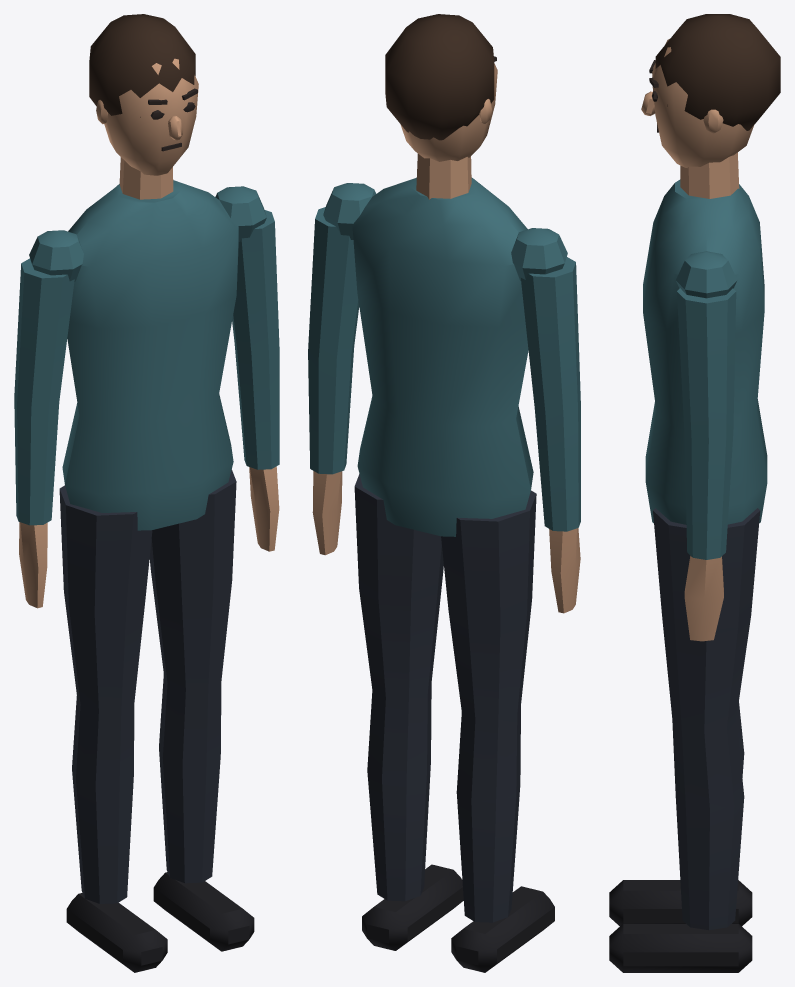
The model's file is pessoa-leve.glb.
The picture shows the model from 3 angles, left to right: view 1: azimuth 30°, elevation 25°; view 2: azimuth 150°, elevation 25°; view 3: azimuth 270°, elevation 25°; orthographic projection. The views are drawn at different scales.
Visible parts, largest first — view 1: tronco-torso, pernas-perna, pernas-perna.001, bracos-manga, bracos-manga.001, cabelo-cabelo, cabeca-cranio, pes-sapato, pes-sapato.001, tronco-ombro, maos-mao, maos-mao.001 (+2 smaller); view 2: tronco-torso, pernas-perna, pernas-perna.001, bracos-manga, cabelo-cabelo, bracos-manga.001, pes-sapato, pes-sapato.001, tronco-ombro, cabeca-cranio, maos-mao, maos-mao.001 (+2 smaller); view 3: pernas-perna.001, tronco-torso, bracos-manga.001, cabelo-cabelo, pes-sapato.001, cabeca-cranio, pes-sapato, maos-mao.001, tronco-ombro.001, cabeca-pescoco.
Part boxes in pixels (<box>): tronco-torso: <box>62,180,238,530</box>; pernas-perna: <box>59,485,152,903</box>; pernas-perna.001: <box>149,469,236,883</box>; bracos-manga: <box>14,258,74,525</box>; bracos-manga.001: <box>232,210,279,469</box>; cabelo-cabelo: <box>89,14,195,117</box>; cabeca-cranio: <box>104,58,198,175</box>; pes-sapato: <box>66,893,167,972</box>; pes-sapato.001: <box>153,872,254,951</box>; tronco-ombro: <box>29,230,83,281</box>; maos-mao: <box>19,522,47,608</box>; maos-mao.001: <box>249,466,279,551</box>; tronco-torso: <box>352,177,533,536</box>; pernas-perna: <box>441,490,536,922</box>; pernas-perna.001: <box>354,474,443,901</box>; bracos-manga: <box>521,257,580,531</box>; cabelo-cabelo: <box>385,14,494,140</box>; bracos-manga.001: <box>308,207,359,474</box>; pes-sapato: <box>451,886,554,972</box>; pes-sapato.001: <box>362,864,463,950</box>; tronco-ombro: <box>511,228,567,280</box>; cabeca-cranio: <box>400,63,497,161</box>; maos-mao: <box>549,528,580,613</box>; maos-mao.001: <box>312,471,342,555</box>; pernas-perna.001: <box>653,508,760,930</box>; tronco-torso: <box>643,179,767,524</box>; bracos-manga.001: <box>677,288,736,559</box>; cabelo-cabelo: <box>655,14,780,130</box>; pes-sapato.001: <box>609,923,752,972</box>; cabeca-cranio: <box>652,39,754,167</box>; pes-sapato: <box>609,880,752,926</box>; maos-mao.001: <box>684,556,723,641</box>; tronco-ombro.001: <box>676,251,737,298</box>; cabeca-pescoco: <box>680,152,739,198</box>.
Size of the model in its own units: 0.538 by 1.8 by 0.2994.
